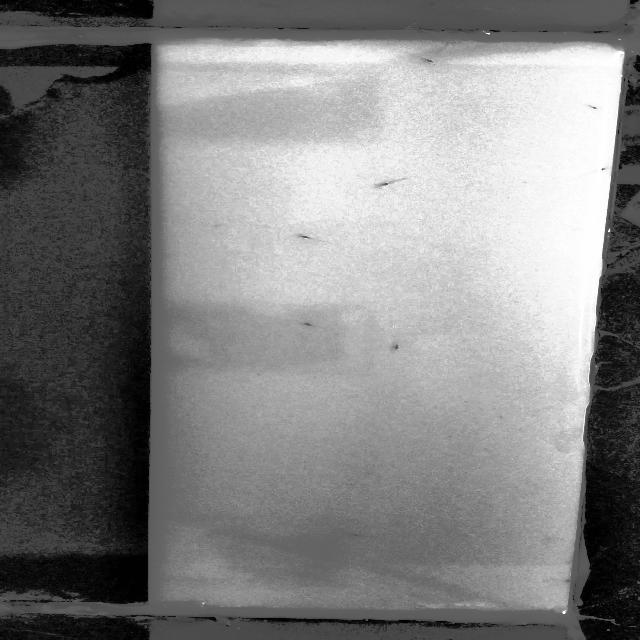shrimp: (367, 177, 427, 191), (574, 159, 614, 177), (418, 53, 448, 67), (571, 101, 603, 113), (340, 534, 381, 542), (298, 234, 330, 243), (303, 320, 324, 330), (388, 342, 408, 352)
